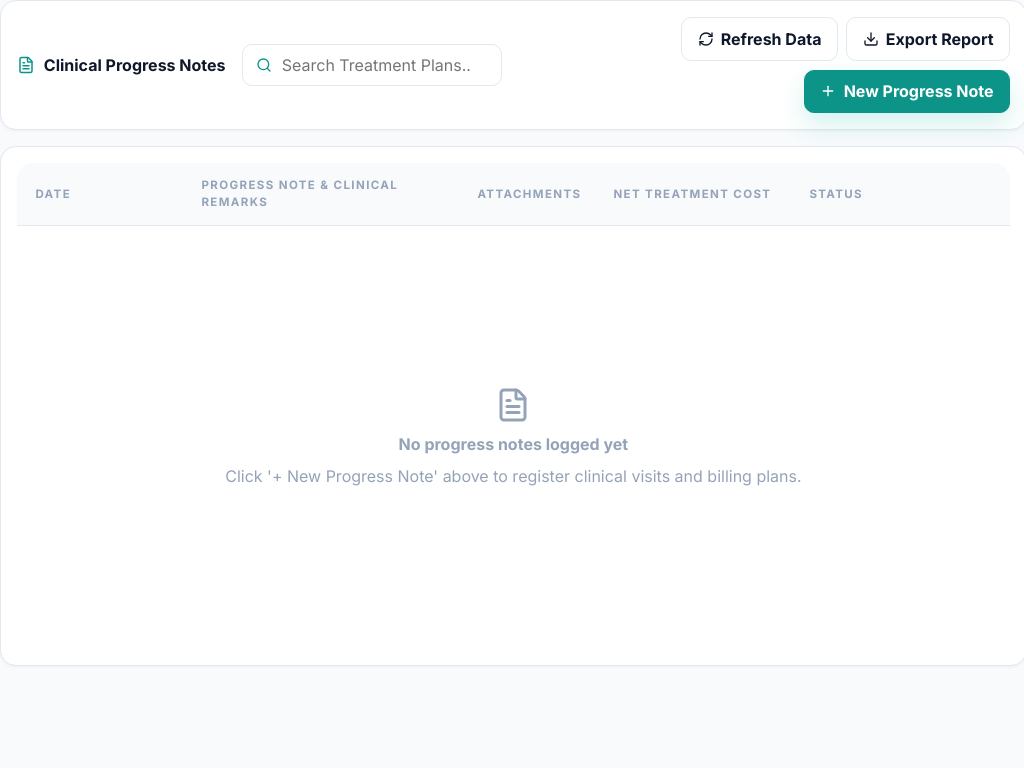
Test: ProgressNotes › saves a draft without creating linked bills or appointments
Step 1. Click the button "New Progress Note" → (907,91), box 804,70 -> 1010,113
(page scrolled)
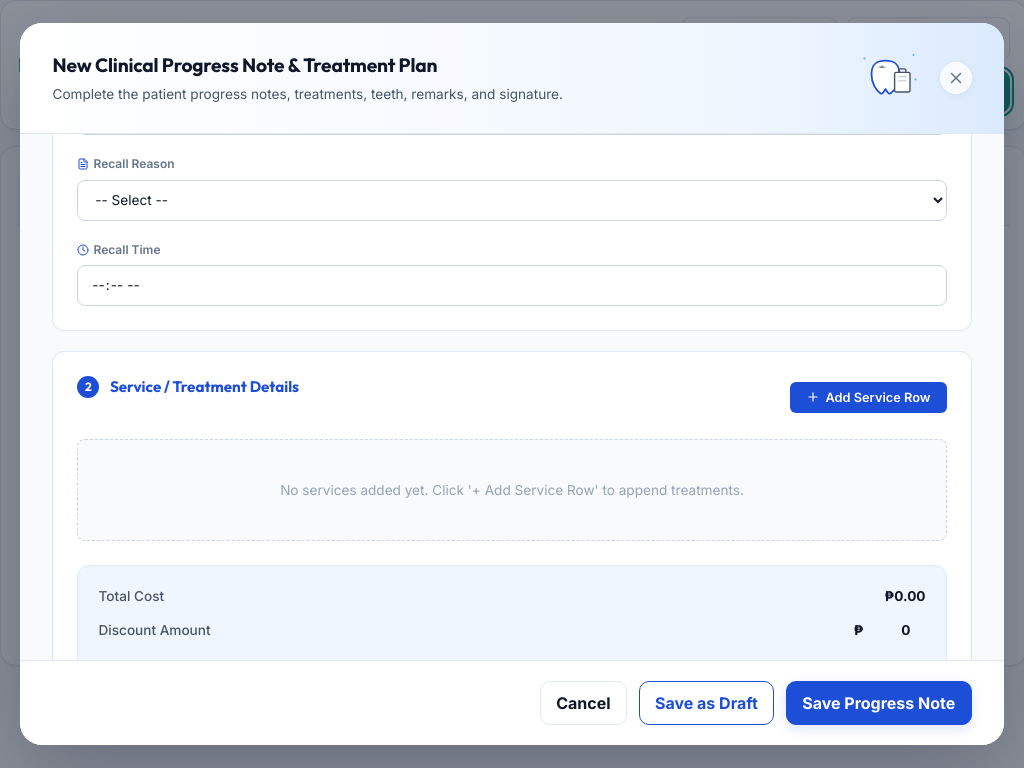
Step 2. Click the button "Add Service Row" → (868,397), box 790,382 -> 946,413
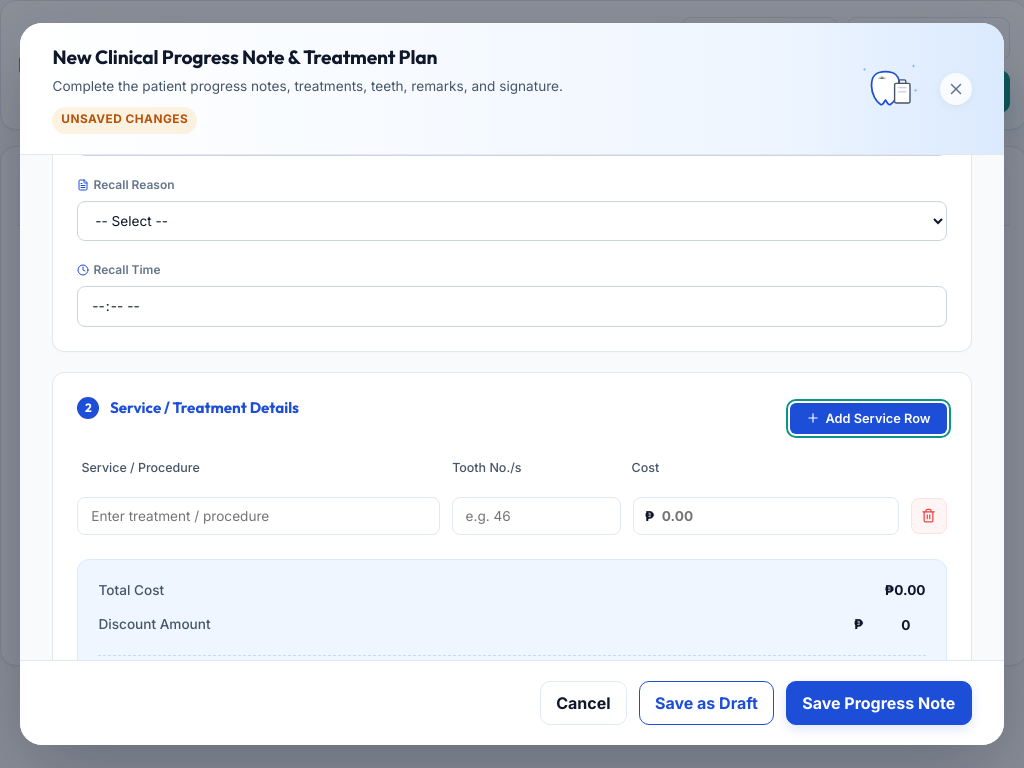
Step 3. Type "Consultation (Labxpert-CAVSU)" into the field with placeholder "Enter treatment / procedure" → (259,516), box 78,497 -> 440,535
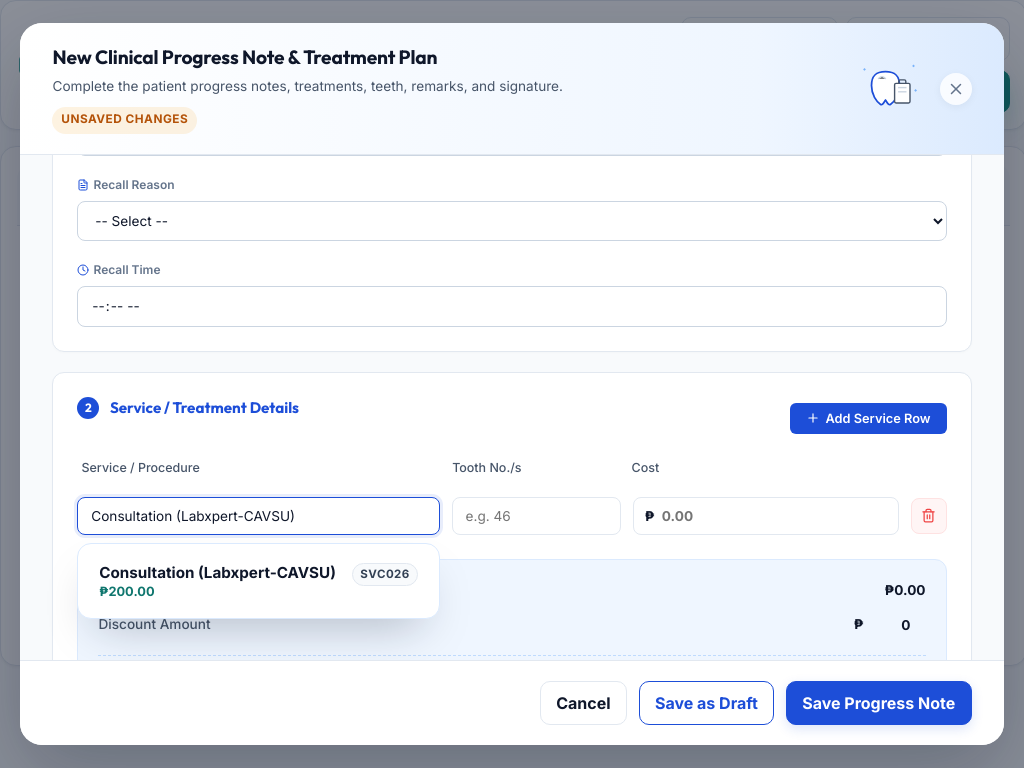
Step 4. Type "200" into the number field with placeholder "0.00" → (766,516), box 633,497 -> 898,535
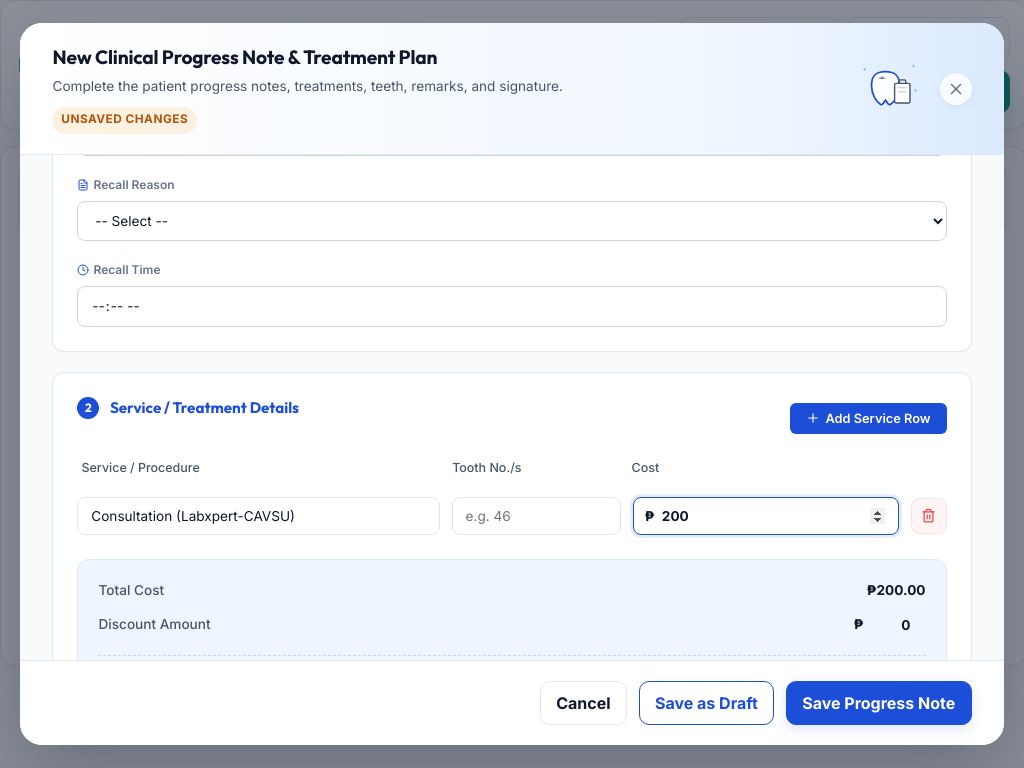
Step 5. Click the button "Save as Draft" → (706,703), box 639,681 -> 774,725
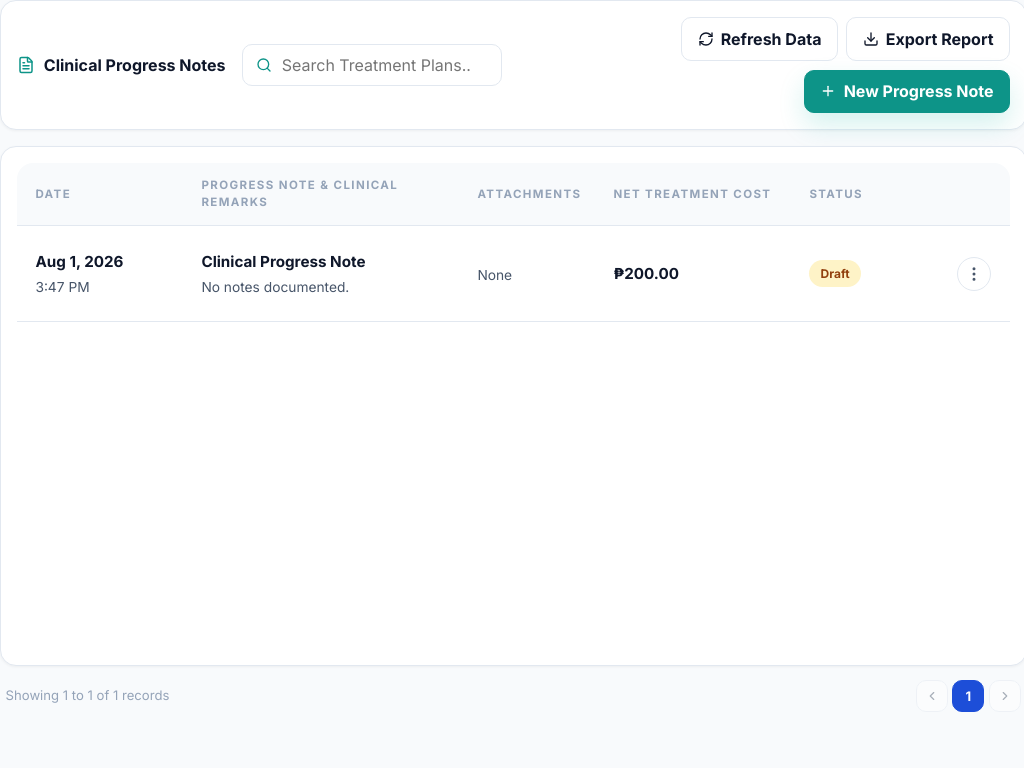
Expected: the heading "New Clinical Progress Note & Treatment Plan" is gone
